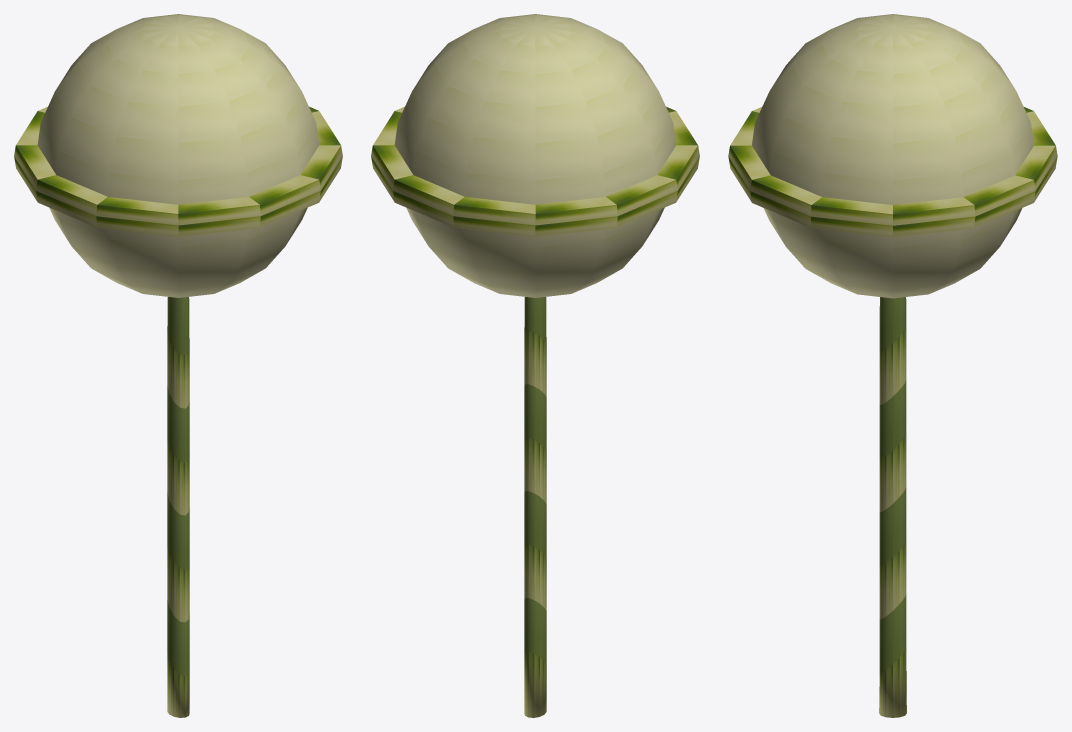
The model's file is OBS0110259.fbx.
3 renders of one model, left to right at view 1: azimuth 30°, elevation 25°; view 2: azimuth 150°, elevation 25°; view 3: azimuth 270°, elevation 25°, orthographic.
Parts seen in each view (by area): view 1: smOBS0110259; view 2: smOBS0110259; view 3: smOBS0110259.
Part boxes in pixels (x1,y1,x2,y2): smOBS0110259: [14, 14, 342, 717]; smOBS0110259: [371, 14, 699, 717]; smOBS0110259: [728, 14, 1057, 717].
Size of the model in its own units: 72.81 by 168 by 72.81.
